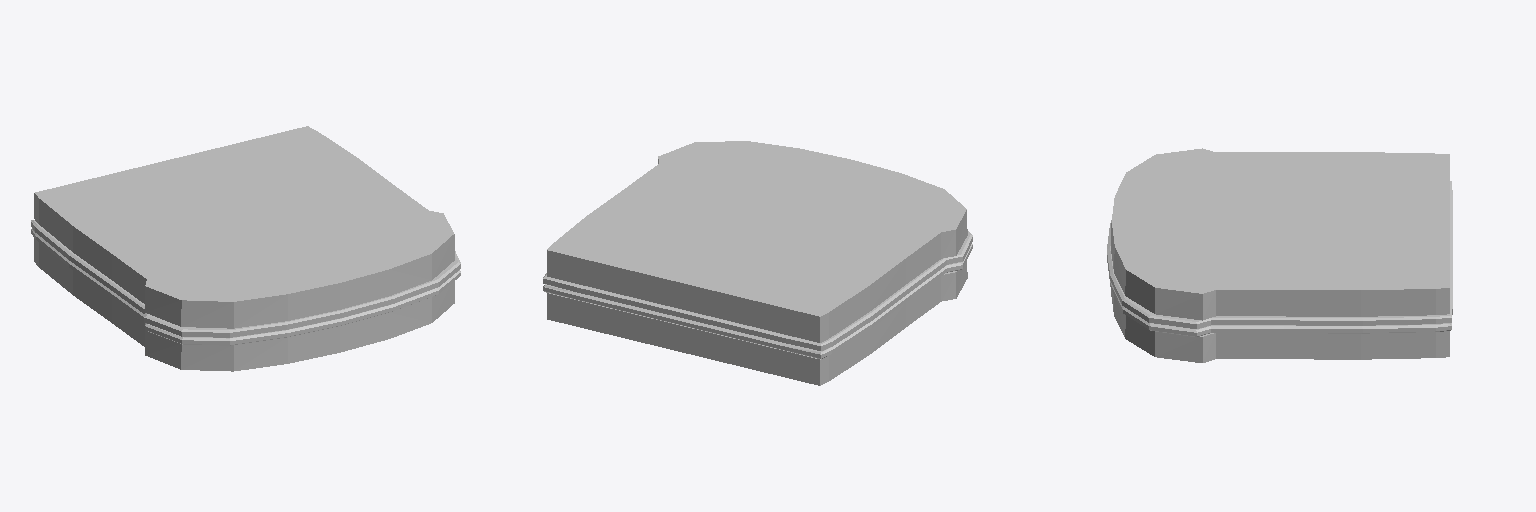
File: peanut butter and jelly.obj
The picture shows the model from 3 angles: view 1: azimuth 30°, elevation 25°; view 2: azimuth 150°, elevation 25°; view 3: azimuth 270°, elevation 25°; orthographic projection.
Bounding box in the file's own units: 1.13 × 0.2429 × 1.1.